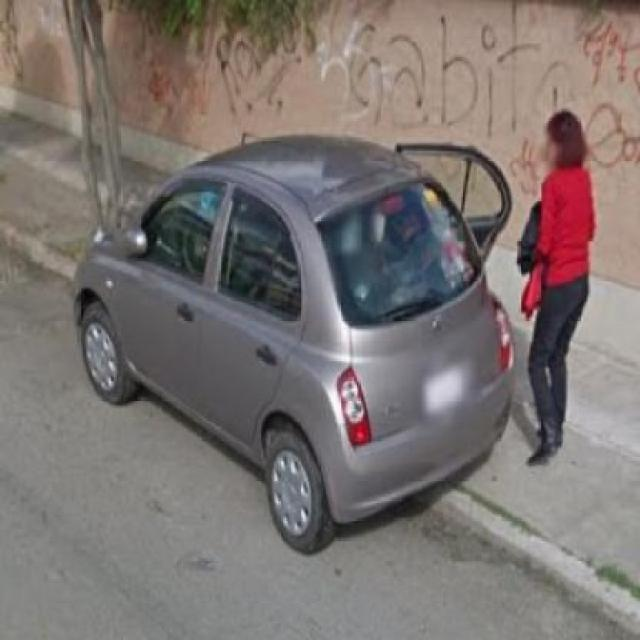car: (88, 127, 521, 535)
